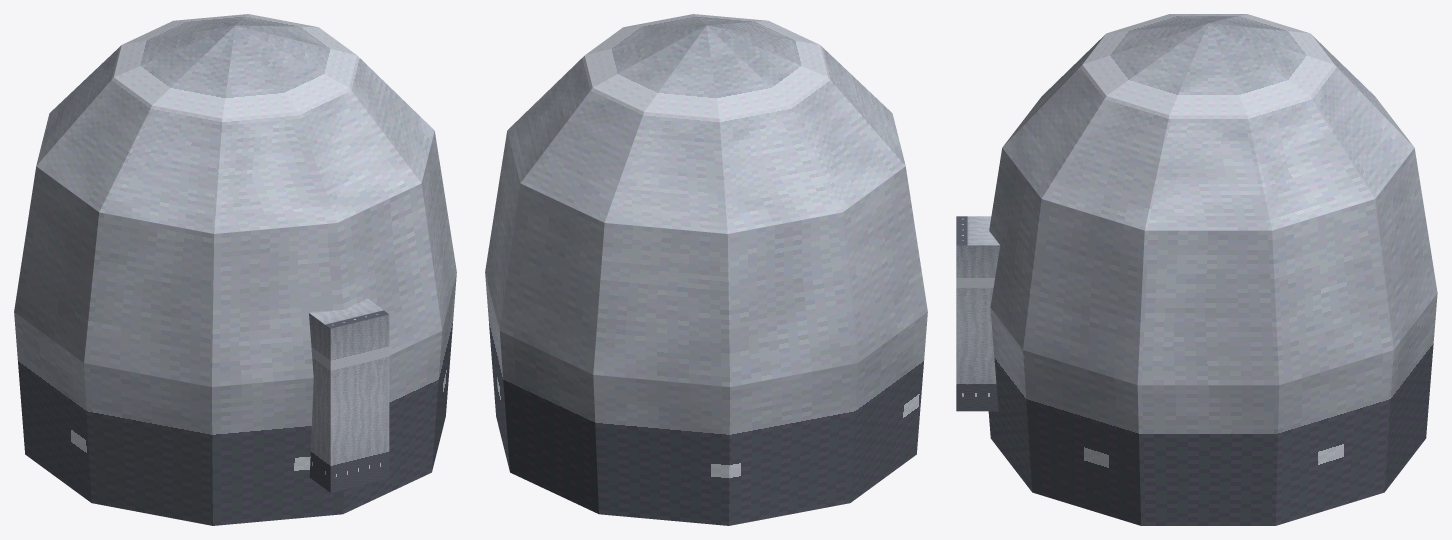
Rendered from capacete_de_ferro.glb.
The picture shows the model from 3 angles, left to right: view 1: azimuth 30°, elevation 25°; view 2: azimuth 150°, elevation 25°; view 3: azimuth 270°, elevation 25°; orthographic projection.
Parts seen in each view (by area): view 1: capacete_de_ferro; view 2: capacete_de_ferro; view 3: capacete_de_ferro.
Part boxes in pixels (x1,y1,x2,y2): capacete_de_ferro: (14, 14, 456, 525); capacete_de_ferro: (485, 14, 927, 525); capacete_de_ferro: (956, 14, 1437, 525).
Bounding box in the file's own units: 0.3804 × 0.4 × 0.42.
1 material, 1 textured.
